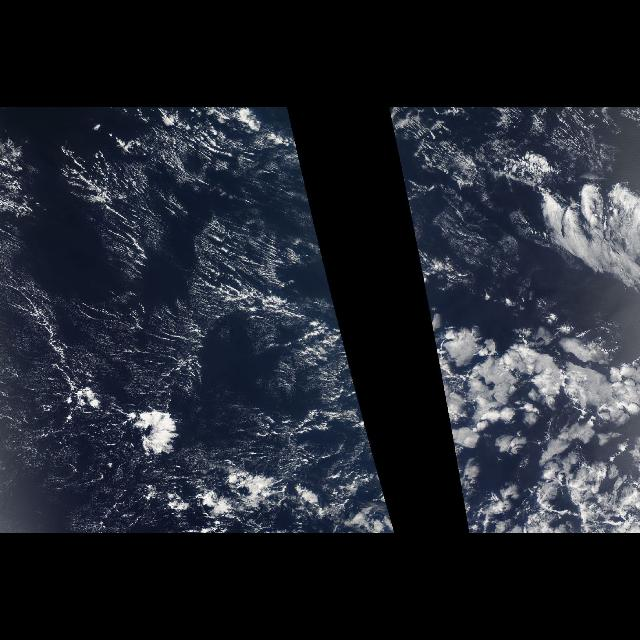Flower: (410, 171, 636, 524)
Sugar: (7, 149, 341, 533)
